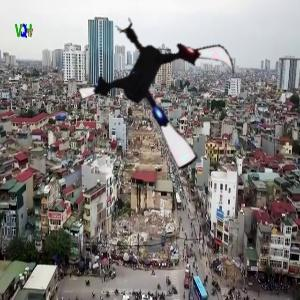drone: (77, 10, 244, 177)
